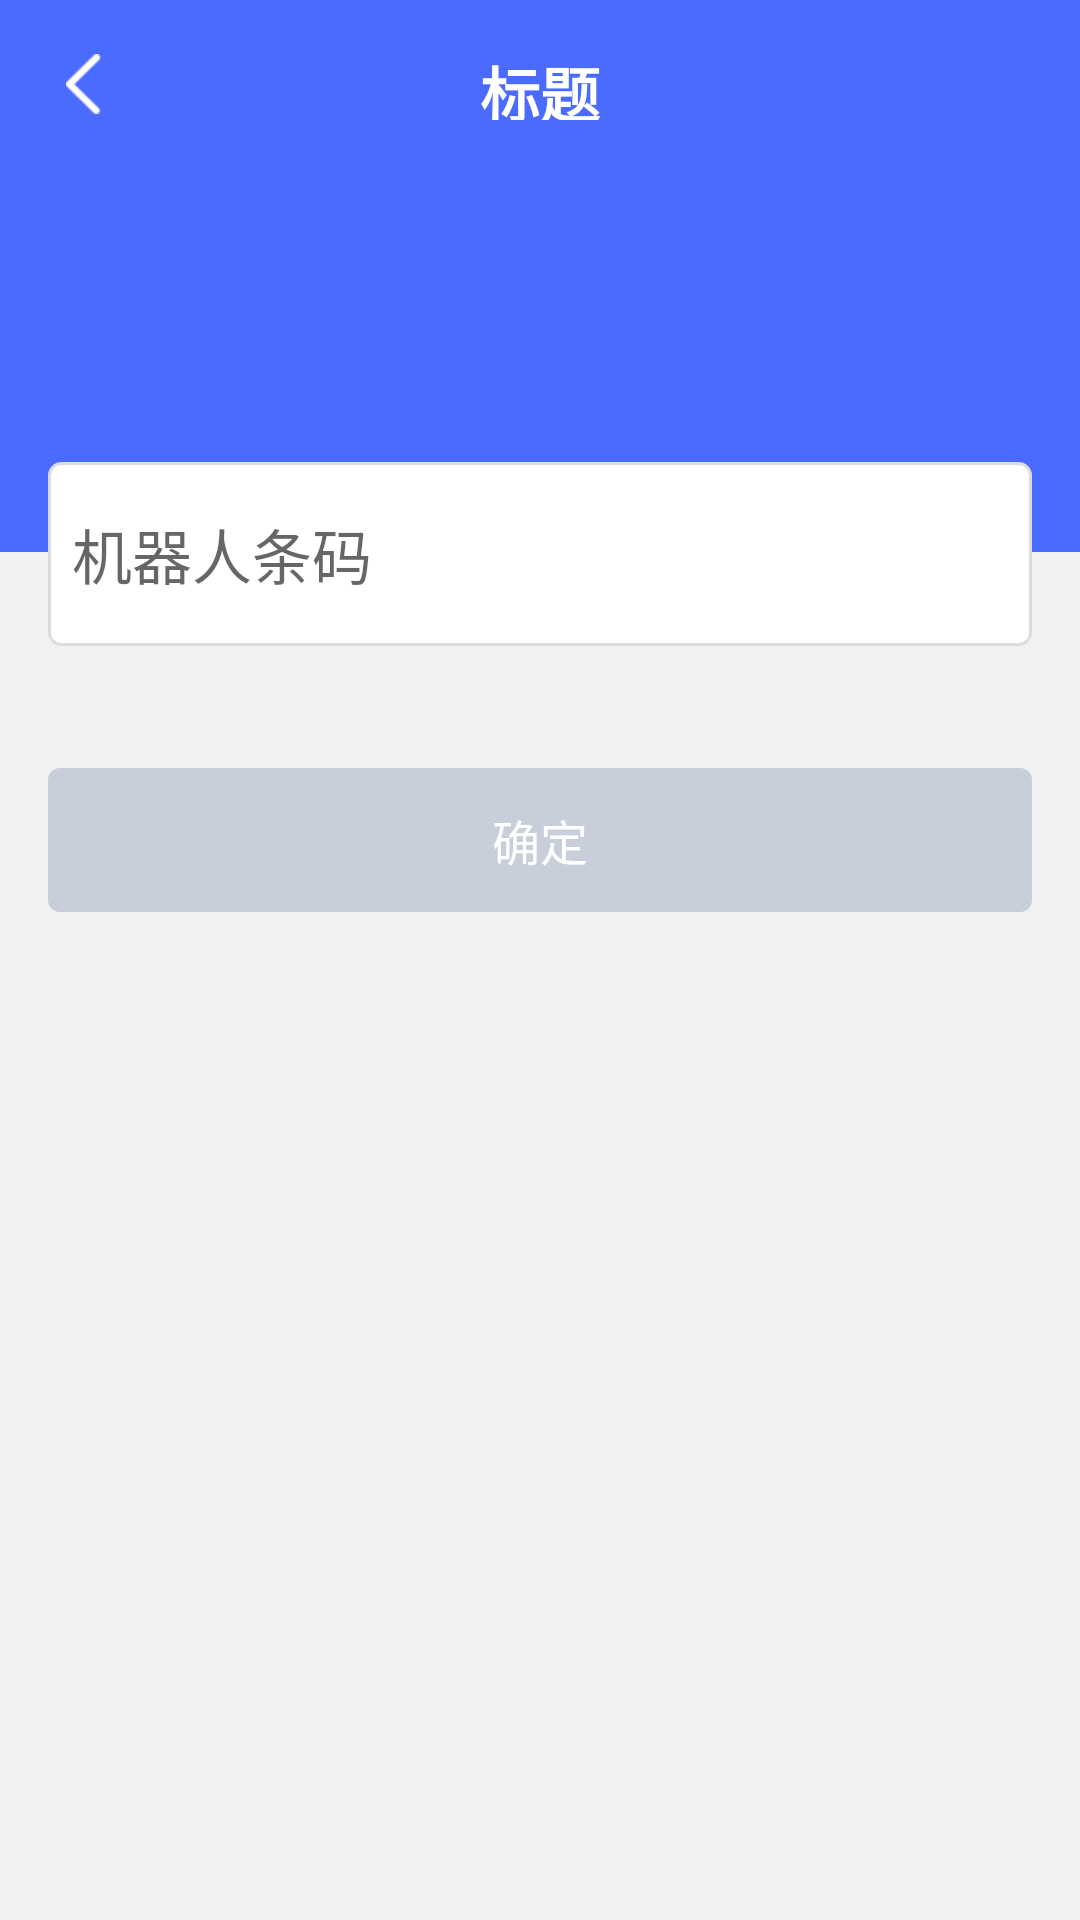

Icons on this 1080*1920 Android screen, each with the point to tap as (x,y):
back: (83,84)
